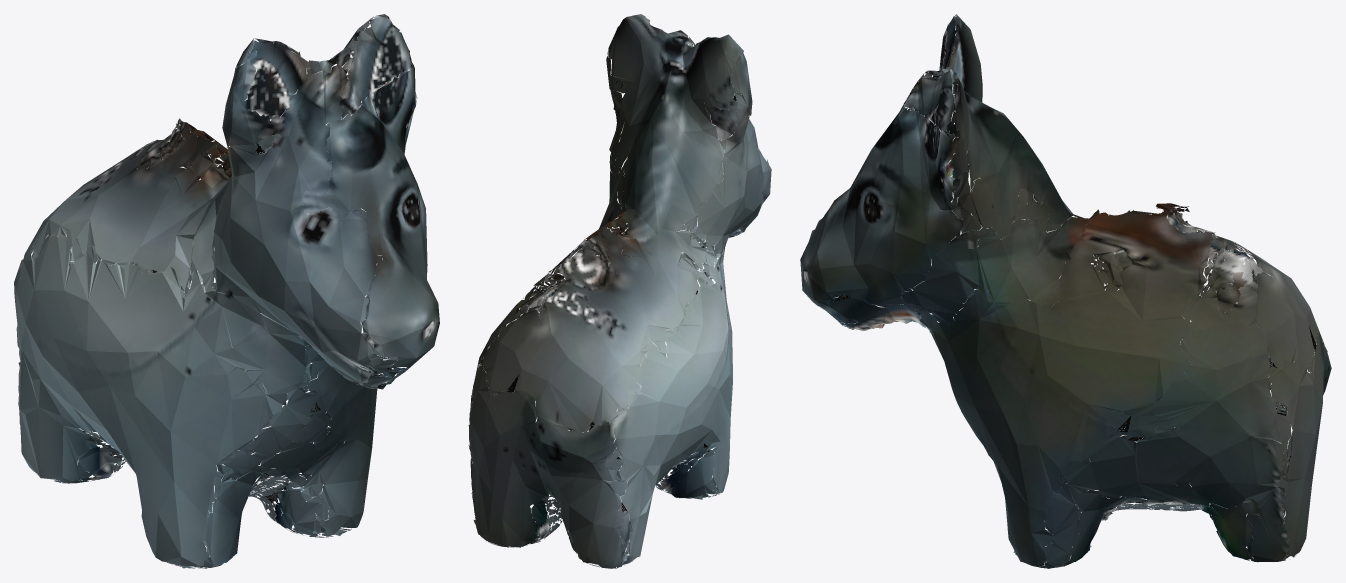
The model's file is mule.gltf.
3 views of the same model, side by side, from view 1: azimuth 30°, elevation 25°; view 2: azimuth 150°, elevation 25°; view 3: azimuth 270°, elevation 25° (orthographic). The views are drawn at different scales.
Visible parts, largest first — view 1: model_New Qlone; view 2: model_New Qlone; view 3: model_New Qlone.
Part boxes in pixels (x1,y1,x2,y2): model_New Qlone: (14, 14, 439, 568); model_New Qlone: (468, 14, 771, 568); model_New Qlone: (800, 14, 1331, 568).
Size of the model in its own units: 3.57 by 7.51 by 7.38.
Materials: 1 (1 with a texture image).
